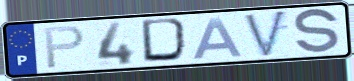4: (94, 20, 139, 67)
A: (191, 16, 246, 61)
D: (139, 16, 194, 64)
P: (42, 24, 87, 71)
S: (292, 7, 342, 57)
V: (242, 8, 290, 60)
